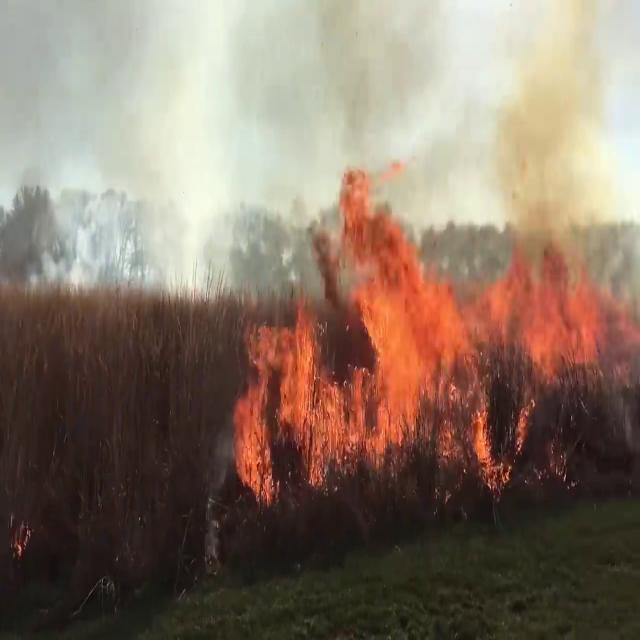Fire: (228, 176, 610, 504)
Smoke: (0, 2, 189, 302), (478, 0, 636, 265)
